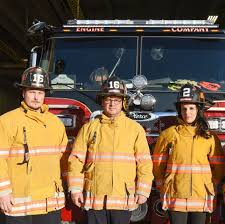emergent: (73, 76, 151, 224), (1, 68, 70, 224), (154, 84, 224, 223)
